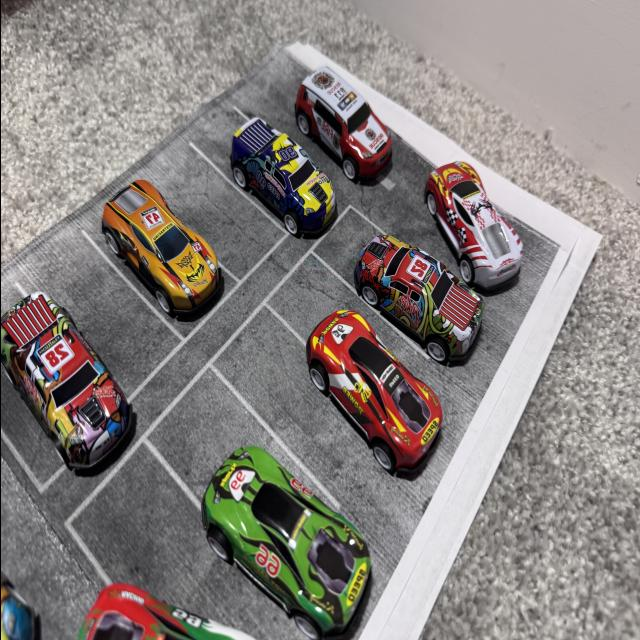car: (187, 416, 363, 640), (68, 91, 218, 349), (0, 240, 138, 493), (196, 60, 350, 268), (302, 282, 442, 478), (352, 192, 484, 372), (434, 122, 540, 322), (288, 45, 416, 200)
